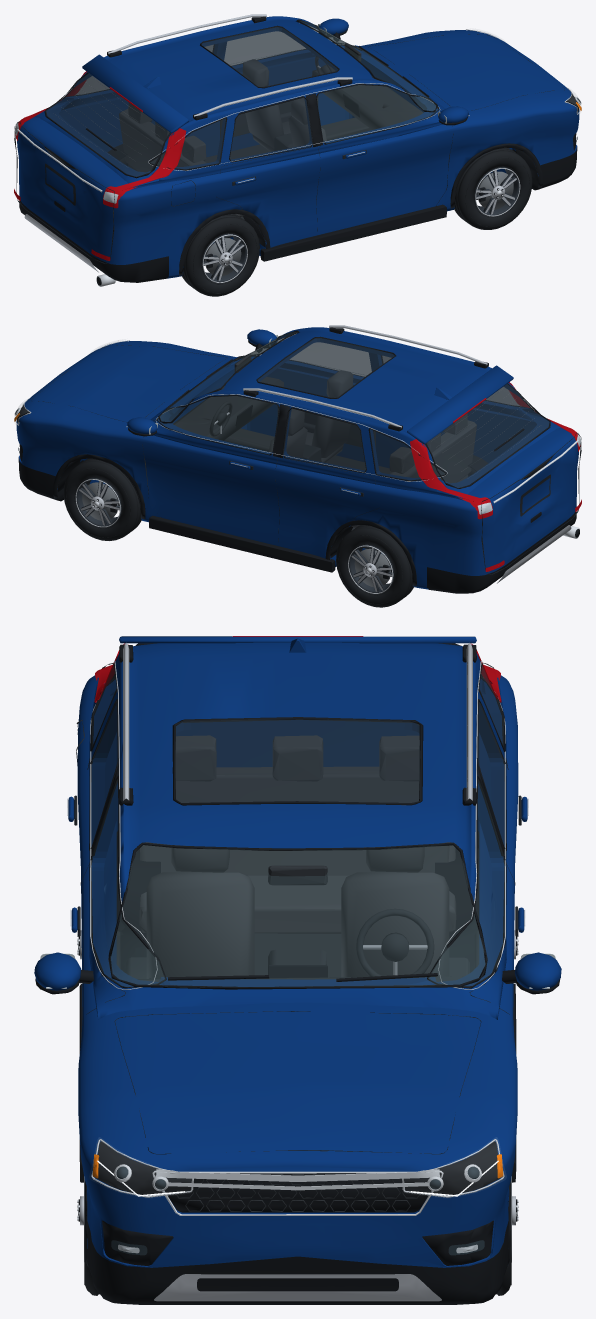
The model's file is honda_crv.glb.
3 views of the same model, one above another, from view 1: azimuth 30°, elevation 25°; view 2: azimuth 150°, elevation 25°; view 3: azimuth 270°, elevation 25° (orthographic). The views are drawn at different scales.
Visible parts, largest first — view 1: BodyPaint, Glazing, RubberTrimAndUnderbody, CabinAndSeats, RFTires, RRTires, Metalwork, RearBrakeLights, RFAlloyRims, RRAlloyRims; view 2: BodyPaint, Glazing, RubberTrimAndUnderbody, CabinAndSeats, LFTires, LRTires, Metalwork, RearBrakeLights, LFAlloyRims, LRAlloyRims; view 3: BodyPaint, Glazing, CabinAndSeats, RubberTrimAndUnderbody, Metalwork, HeadlightsAndIndicators, RearBrakeLights.
Part boxes in pixels (x1,y1,x2,y2): BodyPaint: (17, 16, 579, 278); Glazing: (46, 21, 438, 176); RubberTrimAndUnderbody: (14, 16, 578, 285); CabinAndSeats: (119, 43, 423, 239); RFTires: (454, 147, 532, 229); RRTires: (182, 214, 259, 296); Metalwork: (17, 14, 581, 286); RearBrakeLights: (14, 71, 186, 260); RFAlloyRims: (474, 167, 520, 216); RRAlloyRims: (202, 233, 247, 282); BodyPaint: (16, 327, 578, 589); Glazing: (158, 332, 549, 488); RubberTrimAndUnderbody: (17, 327, 581, 593); CabinAndSeats: (173, 354, 476, 550); LFTires: (63, 458, 141, 540); LRTires: (336, 525, 413, 607); Metalwork: (14, 325, 579, 583); RearBrakeLights: (410, 382, 581, 571); LFAlloyRims: (75, 478, 121, 527); LRAlloyRims: (348, 544, 393, 593); BodyPaint: (34, 636, 561, 1267); Glazing: (91, 665, 504, 987); CabinAndSeats: (117, 735, 478, 981); RubberTrimAndUnderbody: (35, 643, 560, 1304); Metalwork: (40, 643, 555, 1301); HeadlightsAndIndicators: (46, 987, 549, 1255); RearBrakeLights: (94, 636, 501, 702).
Size of the model in its own units: 4.65 by 1.7 by 2.2.
